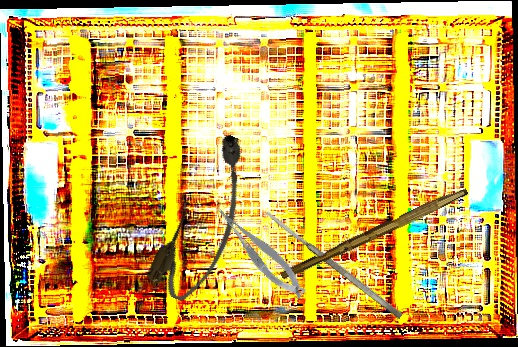Cannula: (142, 128, 271, 309)
Micro Scissor: (212, 195, 310, 308)
Scalpel Handle: (279, 181, 469, 285)
Spatula Surgical: (264, 208, 404, 321)
